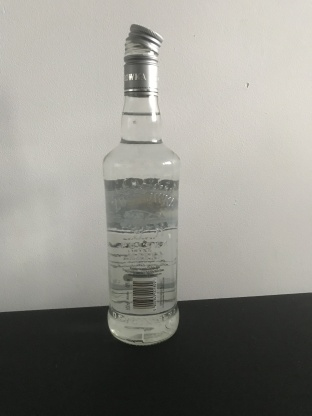nakretka: (122, 20, 163, 97)
